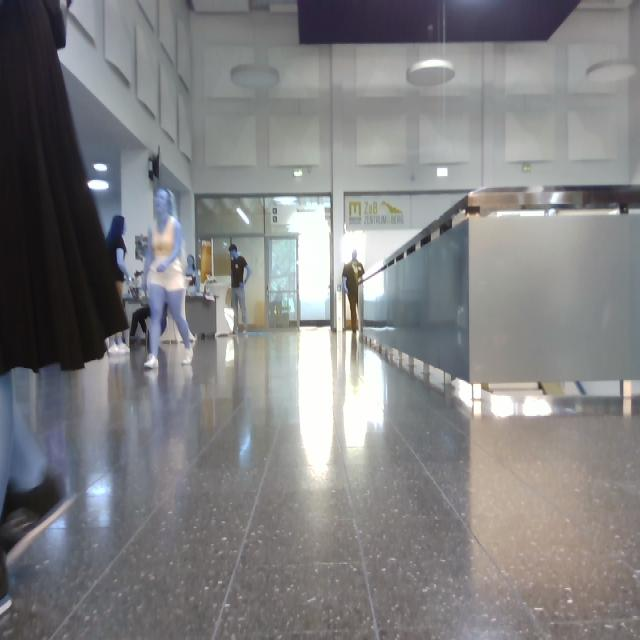desk: (186, 292, 217, 340)
door: (196, 197, 330, 329)
light bulb: (407, 60, 454, 86), (231, 65, 279, 90), (586, 61, 637, 82), (237, 206, 250, 225), (89, 180, 109, 192), (95, 164, 107, 172), (223, 241, 230, 248)
person: (1, 1, 126, 614), (145, 189, 193, 369), (107, 216, 129, 309), (343, 252, 365, 333), (232, 245, 251, 332), (109, 332, 129, 353)
staircase: (361, 188, 640, 405)
tiled floor: (1, 330, 640, 640)
